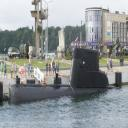submarine: (9, 48, 124, 104)
